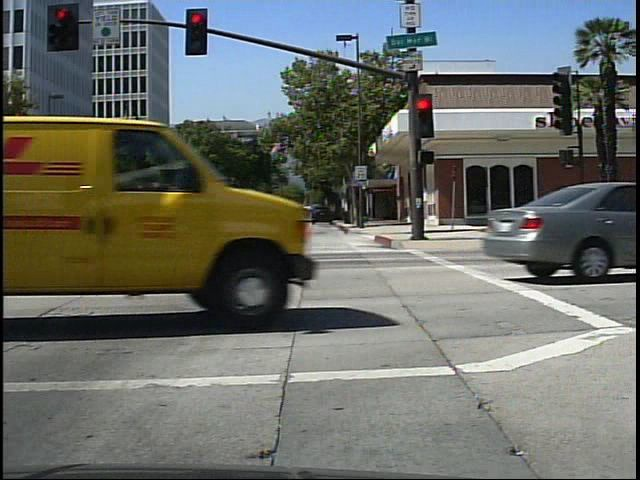person: (278, 204, 292, 222)
